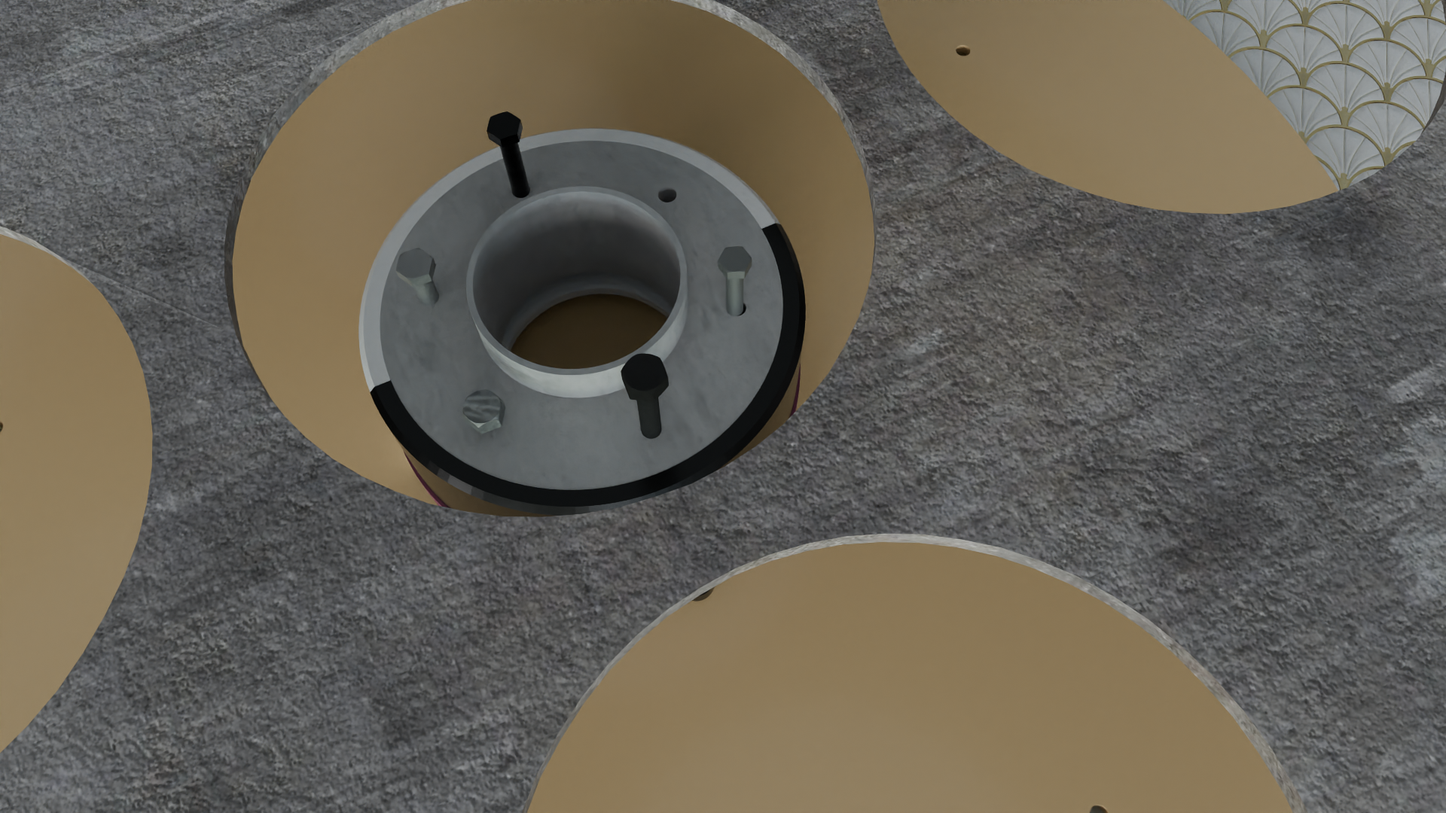bolt: (621, 353, 668, 395), (462, 389, 503, 428), (396, 248, 433, 281), (487, 111, 521, 140), (718, 246, 752, 273)
